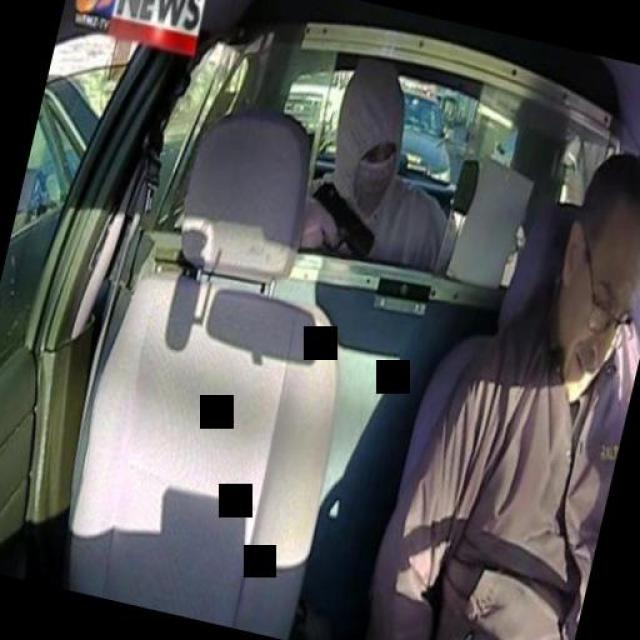gun: (287, 171, 383, 265)
